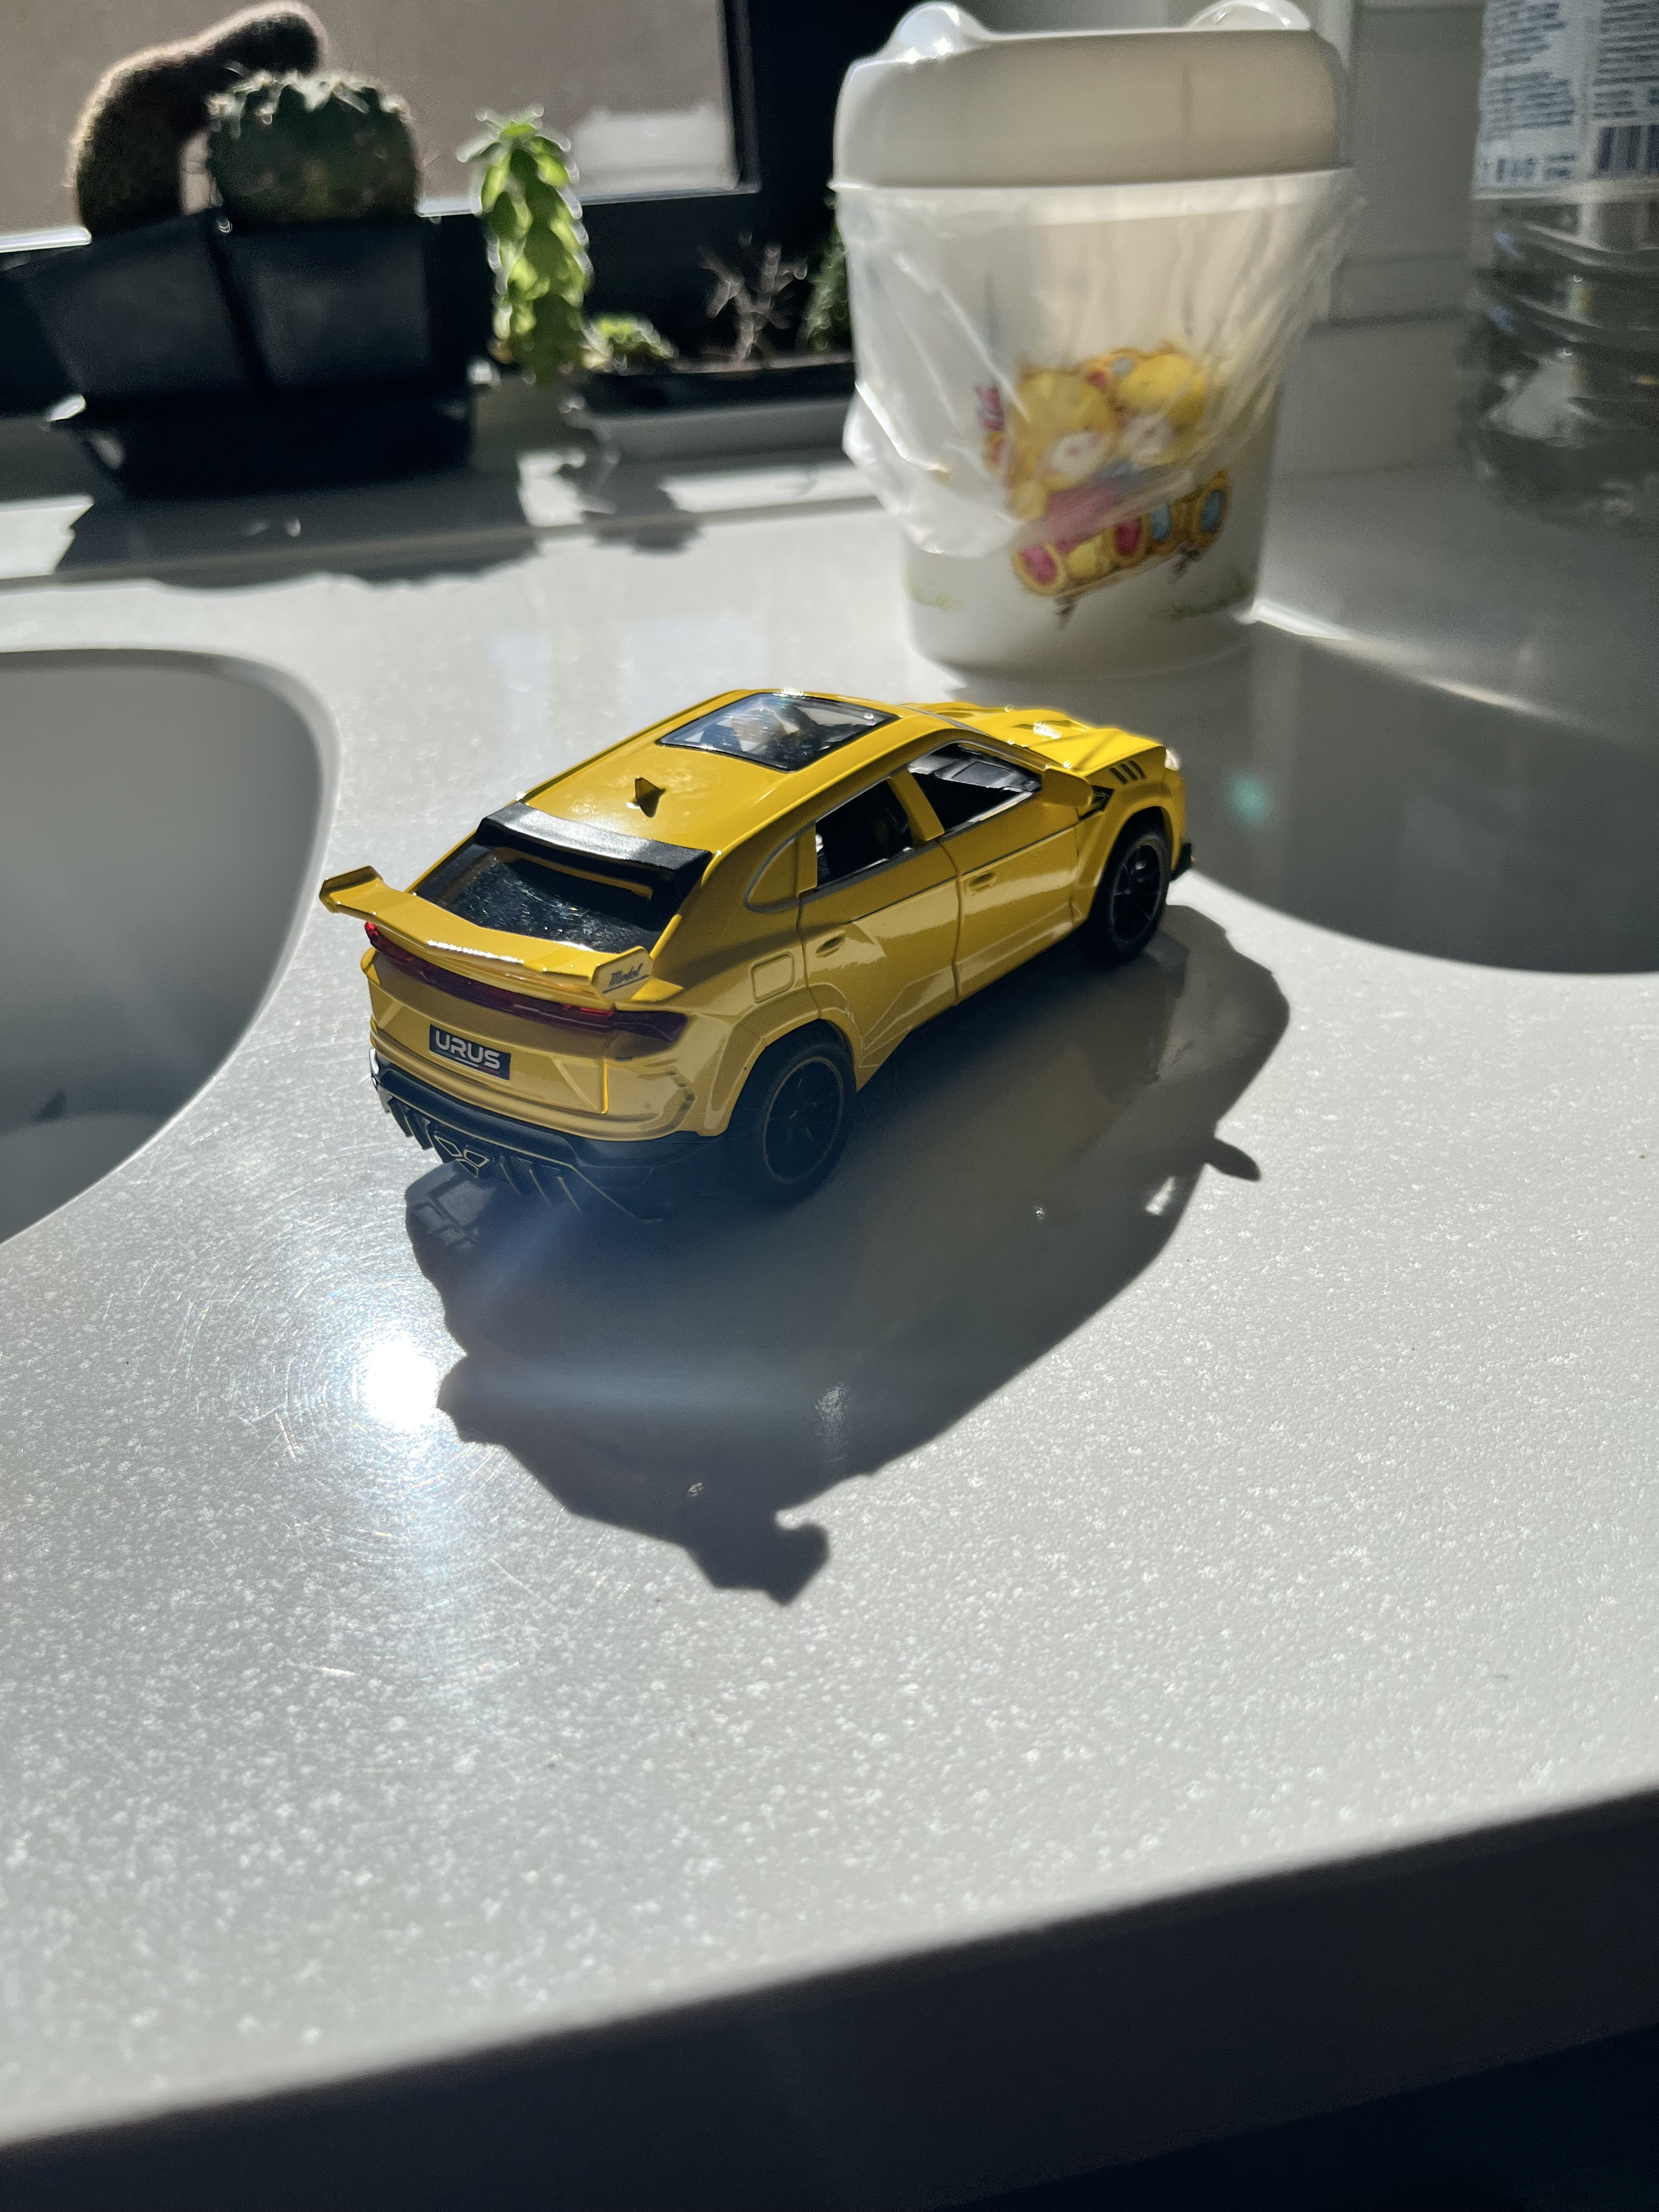lambo: (319, 685, 1195, 1228)
